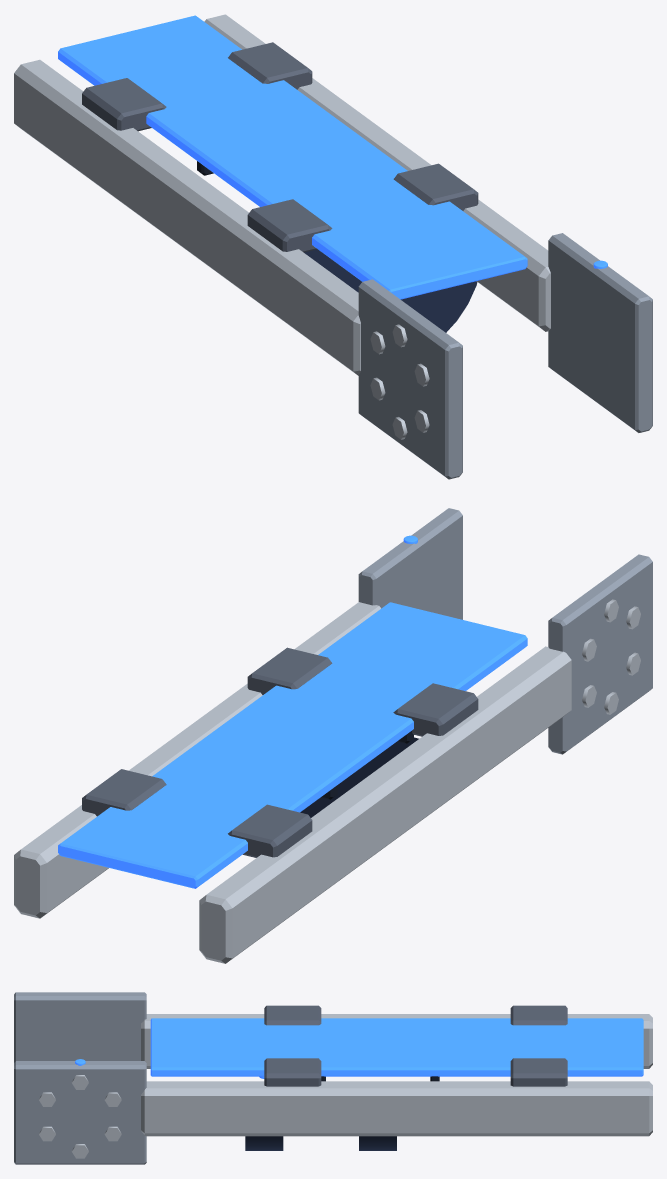
File: tower_lance_damage_s5.glb
3 views of the same model, one above another, from view 1: azimuth 30°, elevation 25°; view 2: azimuth 150°, elevation 25°; view 3: azimuth 270°, elevation 25° (orthographic). The views are drawn at different scales.
Visible parts, largest first — view 1: lance_accelerator_b, lance_heavy_rail_r, lance_breech_cheek_l, lance_breech_cheek_r, lance_heavy_rail_l, lance_heavy_rail_brace_r, lance_heavy_rail_brace2_r, lance_heavy_rail_brace_l, lance_heavy_rail_brace2_l, lance_coil_cap0, lance_cheek_bolts_l; view 2: lance_accelerator_b, lance_heavy_rail_r, lance_breech_cheek_r, lance_heavy_rail_l, lance_breech_cheek_l, lance_heavy_rail_brace2_r, lance_heavy_rail_brace_r, lance_heavy_rail_brace_l, lance_heavy_rail_brace2_l, lance_cheek_bolts_l, lance_coil_cap0; view 3: lance_heavy_rail_l, lance_accelerator_b, lance_breech_cheek_l, lance_breech_cheek_r, lance_heavy_rail_r, lance_heavy_rail_brace2_l, lance_heavy_rail_brace_l, lance_cheek_bolts_r, lance_heavy_rail_brace_r, lance_heavy_rail_brace2_r, lance_coil_cap0, lance_coil_cap1.
Boxes of the visible parts, x1=… form: lance_accelerator_b: x1=58, y1=15, x2=527, y2=299; lance_heavy_rail_r: x1=14, y1=59, x2=360, y2=375; lance_breech_cheek_l: x1=548, y1=233, x2=652, y2=432; lance_breech_cheek_r: x1=358, y1=279, x2=462, y2=479; lance_heavy_rail_l: x1=204, y1=14, x2=550, y2=331; lance_heavy_rail_brace_r: x1=247, y1=199, x2=332, y2=252; lance_heavy_rail_brace2_r: x1=82, y1=78, x2=166, y2=131; lance_heavy_rail_brace_l: x1=393, y1=163, x2=478, y2=210; lance_heavy_rail_brace2_l: x1=228, y1=42, x2=312, y2=89; lance_coil_cap0: x1=345, y1=279, x2=477, y2=332; lance_cheek_bolts_l: x1=370, y1=324, x2=429, y2=439; lance_accelerator_b: x1=58, y1=602, x2=527, y2=888; lance_heavy_rail_r: x1=199, y1=646, x2=571, y2=963; lance_breech_cheek_r: x1=548, y1=554, x2=652, y2=754; lance_heavy_rail_l: x1=14, y1=602, x2=380, y2=918; lance_breech_cheek_l: x1=358, y1=508, x2=462, y2=619; lance_heavy_rail_brace2_r: x1=228, y1=804, x2=312, y2=857; lance_heavy_rail_brace_r: x1=393, y1=683, x2=478, y2=736; lance_heavy_rail_brace_l: x1=247, y1=647, x2=332, y2=694; lance_heavy_rail_brace2_l: x1=82, y1=769, x2=166, y2=816; lance_cheek_bolts_l: x1=582, y1=599, x2=640, y2=714; lance_coil_cap0: x1=337, y1=737, x2=418, y2=794; lance_heavy_rail_l: x1=141, y1=1081, x2=652, y2=1136; lance_accelerator_b: x1=150, y1=1018, x2=643, y2=1076; lance_breech_cheek_l: x1=14, y1=1061, x2=146, y2=1164; lance_breech_cheek_r: x1=14, y1=992, x2=146, y2=1062; lance_heavy_rail_r: x1=141, y1=1014, x2=652, y2=1068; lance_heavy_rail_brace2_l: x1=510, y1=1058, x2=567, y2=1086; lance_heavy_rail_brace_l: x1=264, y1=1058, x2=321, y2=1086; lance_cheek_bolts_r: x1=39, y1=1075, x2=121, y2=1158; lance_heavy_rail_brace_r: x1=264, y1=1005, x2=321, y2=1025; lance_heavy_rail_brace2_r: x1=510, y1=1005, x2=567, y2=1025; lance_coil_cap0: x1=245, y1=1136, x2=283, y2=1150; lance_coil_cap1: x1=359, y1=1136, x2=396, y2=1150.
Bounding box in the file's own units: 0.9896 × 0.6818 × 3.37.
